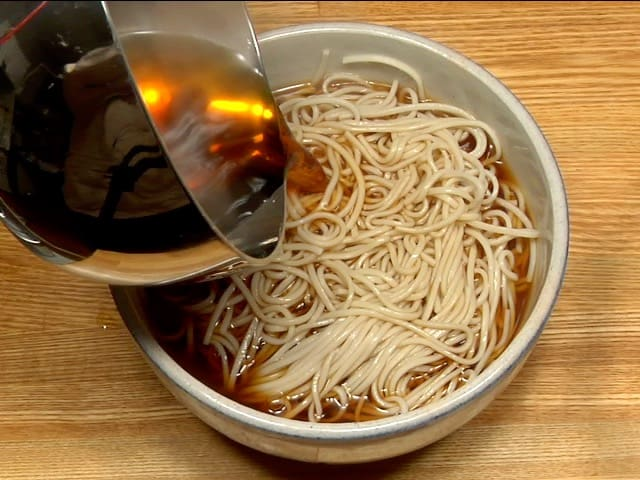Soba: (281, 103, 536, 423)
